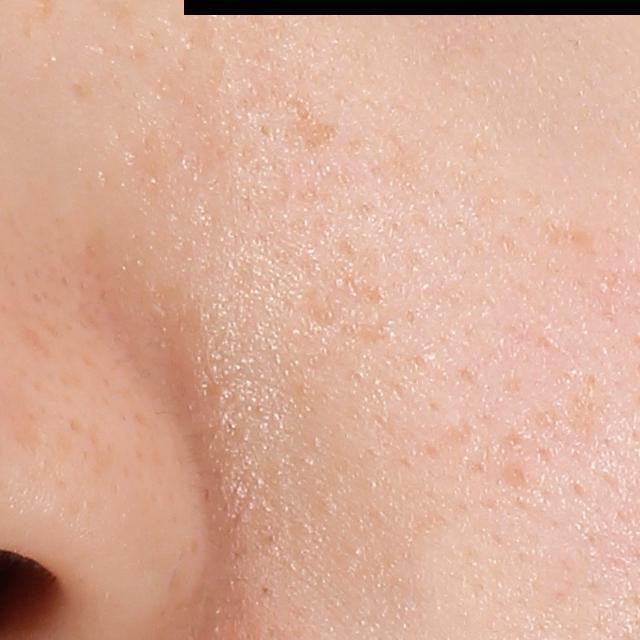melasma: (286, 99, 342, 155)
